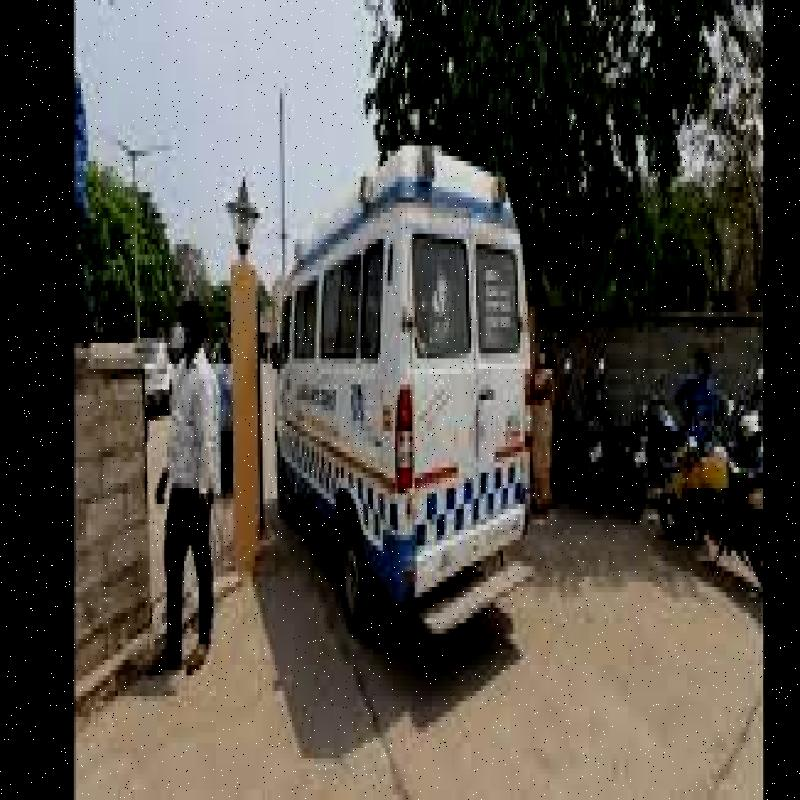ambulance: (280, 130, 548, 630)
